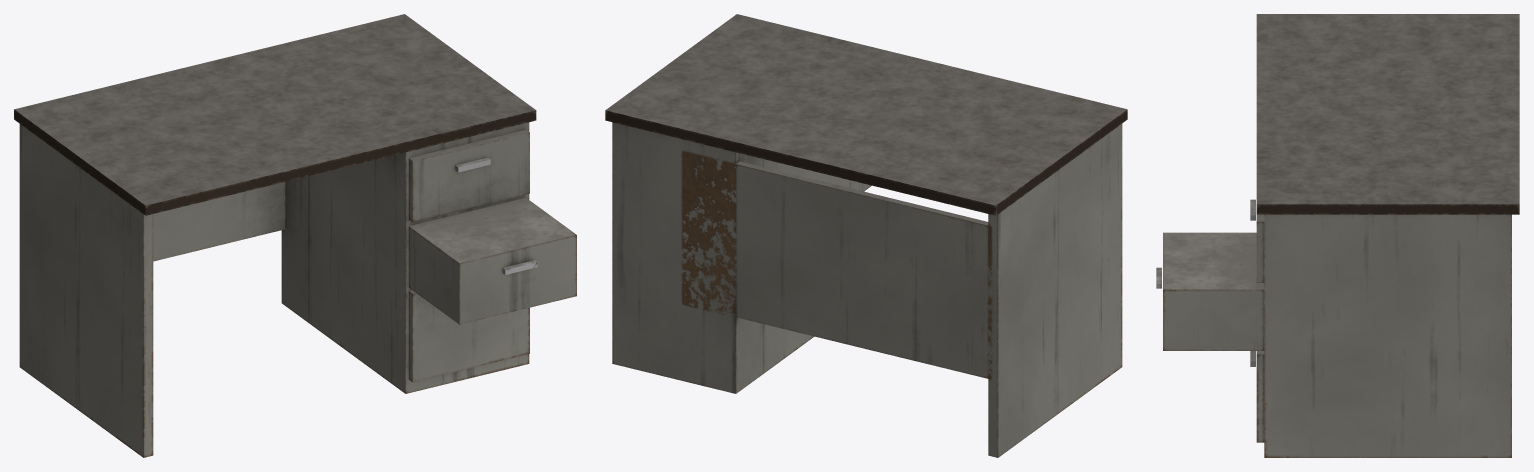
Rendered from SM_OfficeDesk_Soviet.fbx.
The picture shows the model from 3 angles, left to right: view 1: azimuth 30°, elevation 25°; view 2: azimuth 150°, elevation 25°; view 3: azimuth 270°, elevation 25°; orthographic projection.
Parts seen in each view (by area): view 1: SM_OfficeDesk_Soviet; view 2: SM_OfficeDesk_Soviet; view 3: SM_OfficeDesk_Soviet.
Part boxes in pixels (x1,y1,x2,y2): SM_OfficeDesk_Soviet: [14, 14, 576, 457]; SM_OfficeDesk_Soviet: [605, 14, 1127, 457]; SM_OfficeDesk_Soviet: [1156, 14, 1519, 457].
Size of the model in its own units: 1.2 by 0.75 by 0.9675.
Materials: 1 (1 with a texture image).
